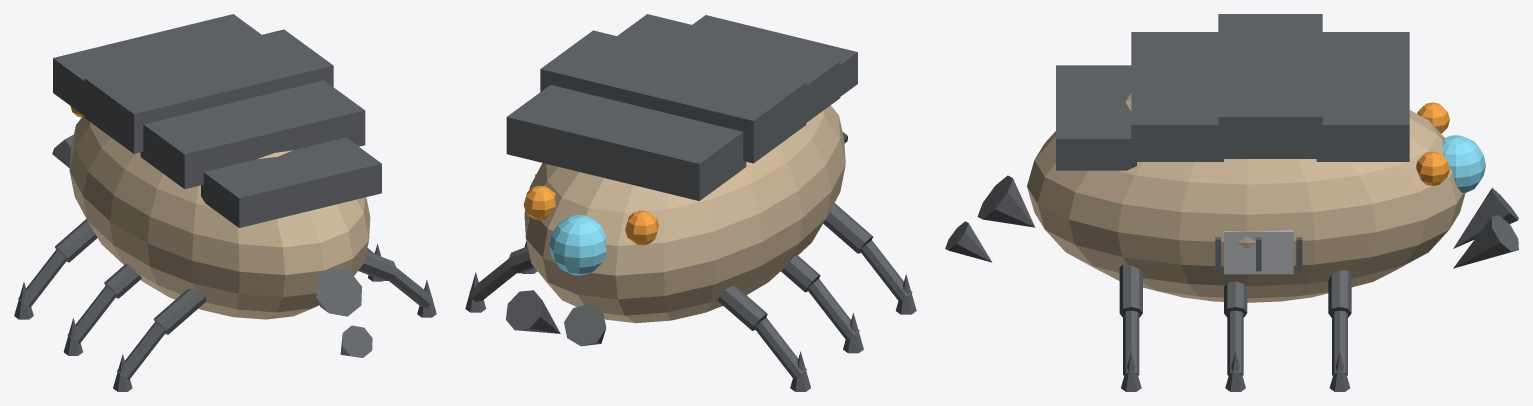
The model's file is SM_Unit_RegolithMite.glb.
3 views of the same model, side by side, from view 1: azimuth 30°, elevation 25°; view 2: azimuth 150°, elevation 25°; view 3: azimuth 270°, elevation 25° (orthographic). The views are drawn at different scales.
Visible parts, largest first — view 1: SM_Unit_RegolithMite; view 2: SM_Unit_RegolithMite; view 3: SM_Unit_RegolithMite.
Boxes of the visible parts, bbox=[...] form: SM_Unit_RegolithMite: bbox=[14, 14, 436, 391]; SM_Unit_RegolithMite: bbox=[465, 14, 916, 391]; SM_Unit_RegolithMite: bbox=[945, 14, 1518, 391].
Bounding box in the file's own units: 0.6712 × 0.465 × 0.99.
